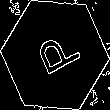P_SW: (27, 27, 83, 83)
